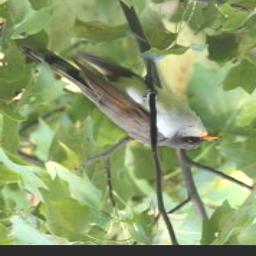Cuckoo: (14, 46, 217, 154)
